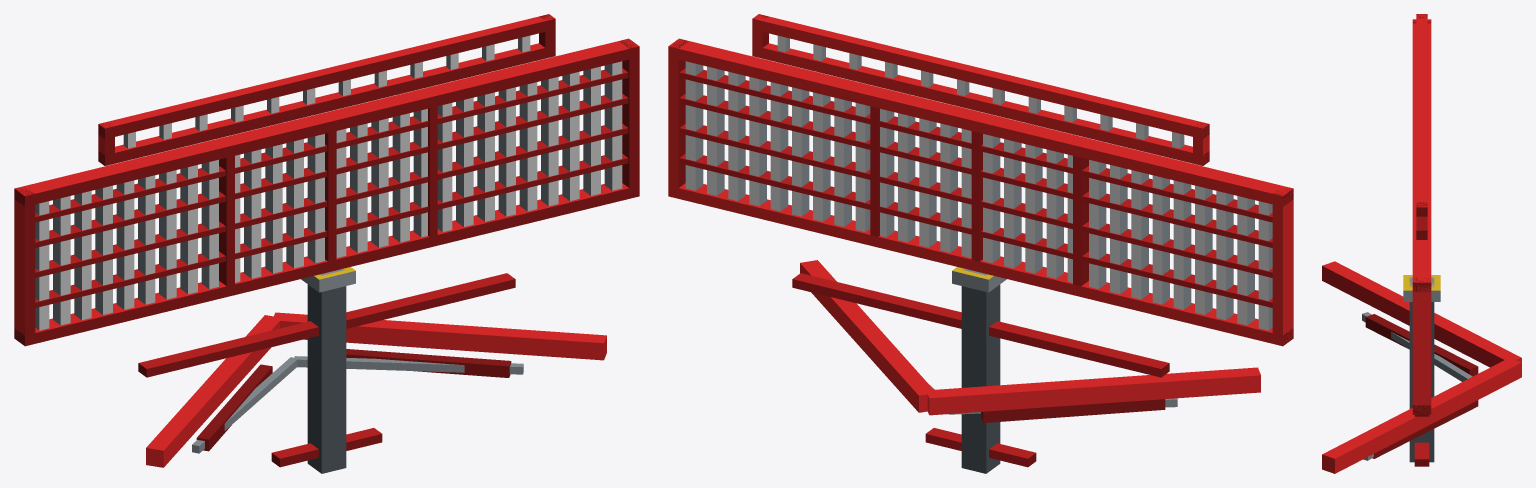
The model's file is radar_dish.obj.
3 views of the same model, side by side, from view 1: azimuth 30°, elevation 25°; view 2: azimuth 150°, elevation 25°; view 3: azimuth 270°, elevation 25° (orthographic). The views are drawn at different scales.
Parts seen in each view (by area): view 1: mesh; view 2: mesh; view 3: mesh.
Boxes of the visible parts, x1,y1,x2,y2 form: mesh: [14, 14, 639, 473]; mesh: [668, 14, 1293, 473]; mesh: [1322, 14, 1521, 473].
Size of the model in its own units: 6 by 3.68 by 1.92.
